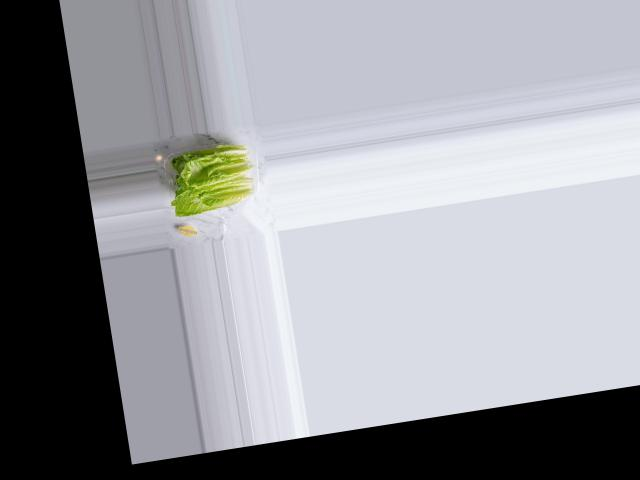lettuce: (162, 138, 259, 221)
